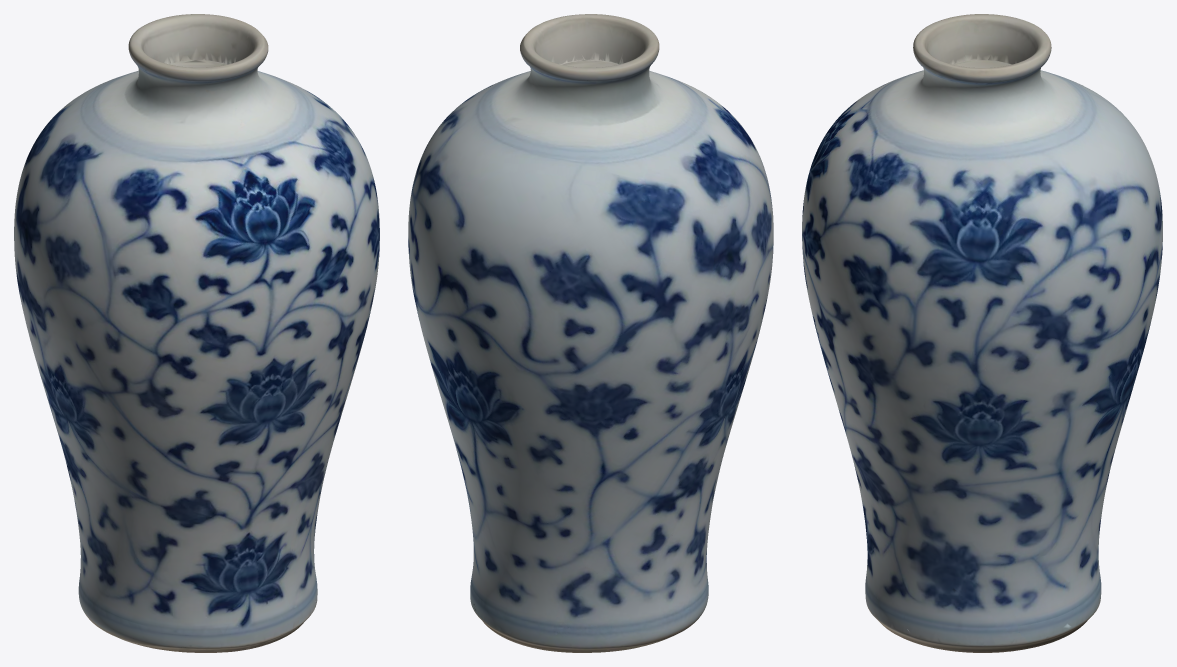
The model's file is qinghua_tc.glb.
3 renders of one model, left to right at view 1: azimuth 30°, elevation 25°; view 2: azimuth 150°, elevation 25°; view 3: azimuth 270°, elevation 25°, orthographic.
Visible parts, largest first — view 1: node_0; view 2: node_0; view 3: node_0.
Boxes of the visible parts, box(x1,y1,x2,y2) form: node_0: box(14, 14, 379, 652); node_0: box(408, 14, 773, 652); node_0: box(802, 14, 1162, 652).
Bounding box in the file's own units: 0.6611 × 1.13 × 0.655.
Materials: 1 (1 with a texture image).
